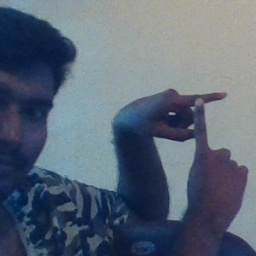T: (140, 85, 247, 185)
